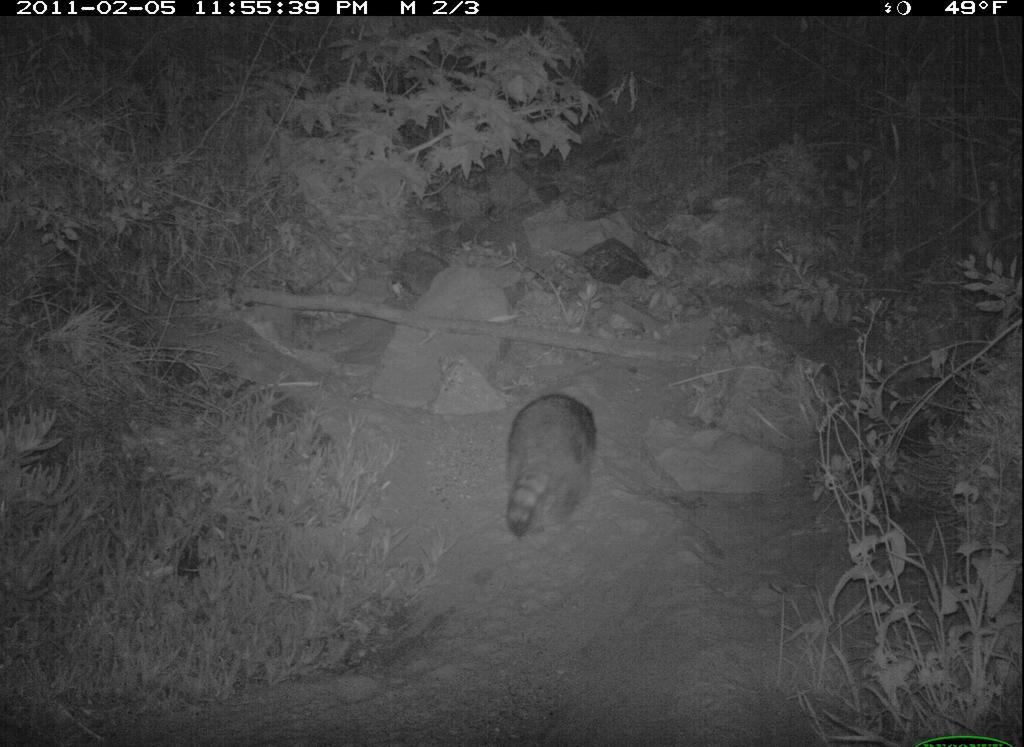raccoon: (502, 381, 592, 546)
